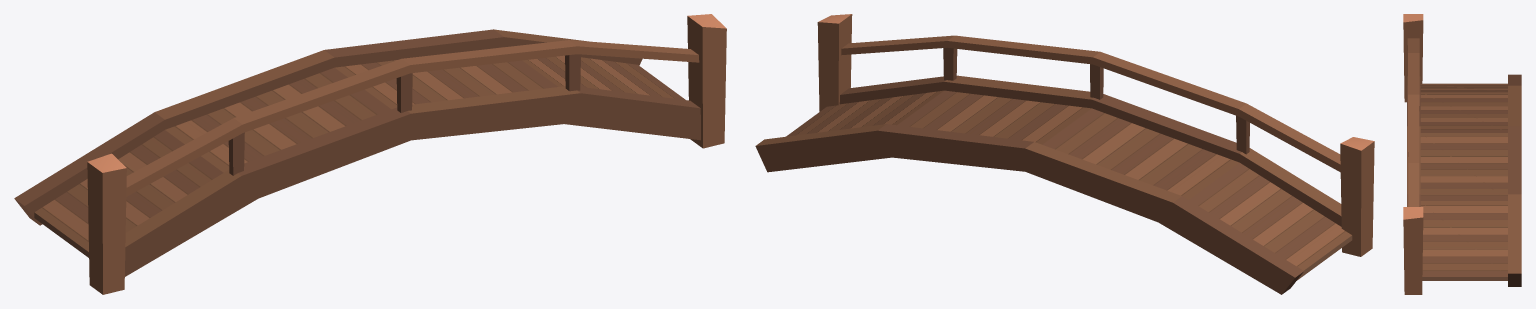
The model's file is Bridge_2 1.fbx.
The picture shows the model from 3 angles, left to right: view 1: azimuth 30°, elevation 25°; view 2: azimuth 150°, elevation 25°; view 3: azimuth 270°, elevation 25°; orthographic projection. The views are drawn at different scales.
Visible parts, largest first — view 1: Bridge2; view 2: Bridge2; view 3: Bridge2.
Boxes of the visible parts, <box> form: Bridge2: <box>14,14,726,294</box>; Bridge2: <box>755,14,1374,294</box>; Bridge2: <box>1403,14,1521,294</box>.
Bounding box in the file's own units: 639 × 149 × 159.
